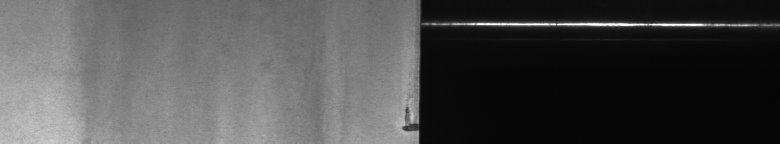hb: (395, 96, 408, 136)
